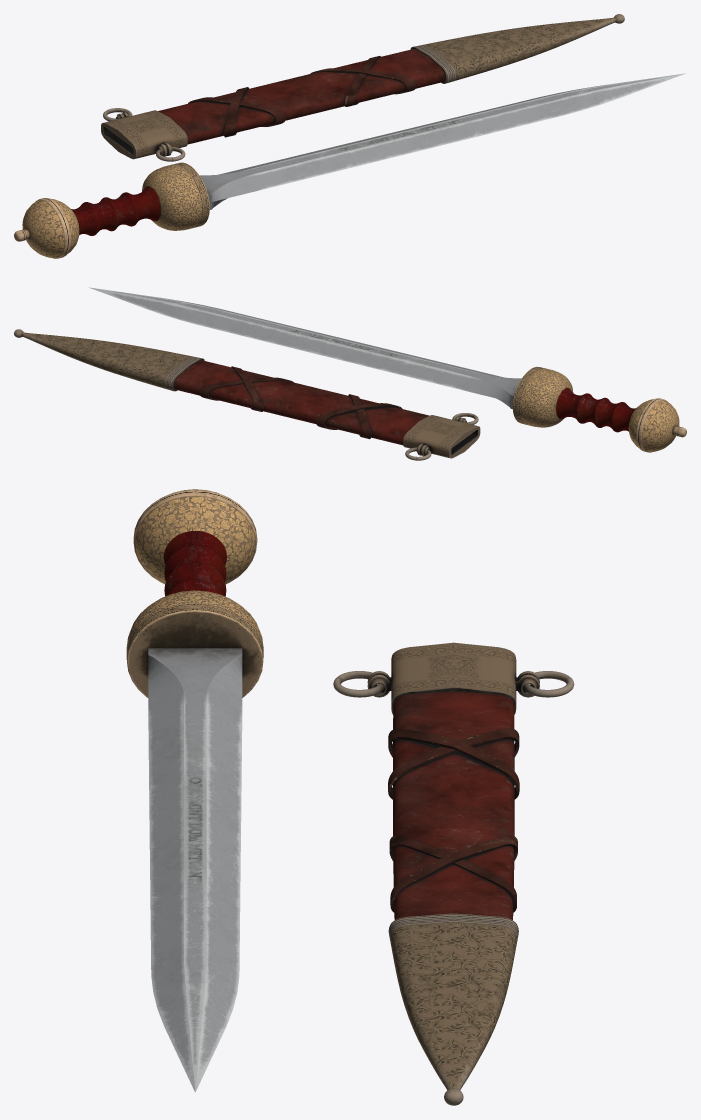
The model's file is roman_gladius.glb.
3 views of the same model, one above another, from view 1: azimuth 30°, elevation 25°; view 2: azimuth 150°, elevation 25°; view 3: azimuth 270°, elevation 25° (orthographic). The views are drawn at different scales.
Visible parts, largest first — view 1: Body_low, Gladius_low; view 2: Body_low, Gladius_low; view 3: Gladius_low, Body_low.
Boxes of the visible parts, bbox=[...] form: Body_low: bbox=[101, 14, 624, 161]; Gladius_low: bbox=[14, 73, 685, 258]; Body_low: bbox=[14, 329, 480, 460]; Gladius_low: bbox=[88, 287, 686, 452]; Gladius_low: bbox=[126, 489, 263, 1092]; Body_low: bbox=[333, 642, 574, 1105].
Bounding box in the file's own units: 1.04 × 0.0838 × 0.3317.
2 materials, 2 textured.
